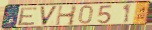0: (77, 4, 94, 25)
1: (121, 3, 132, 24)
5: (96, 4, 114, 25)
E: (16, 7, 39, 27)
H: (54, 5, 79, 27)
V: (39, 5, 59, 27)
